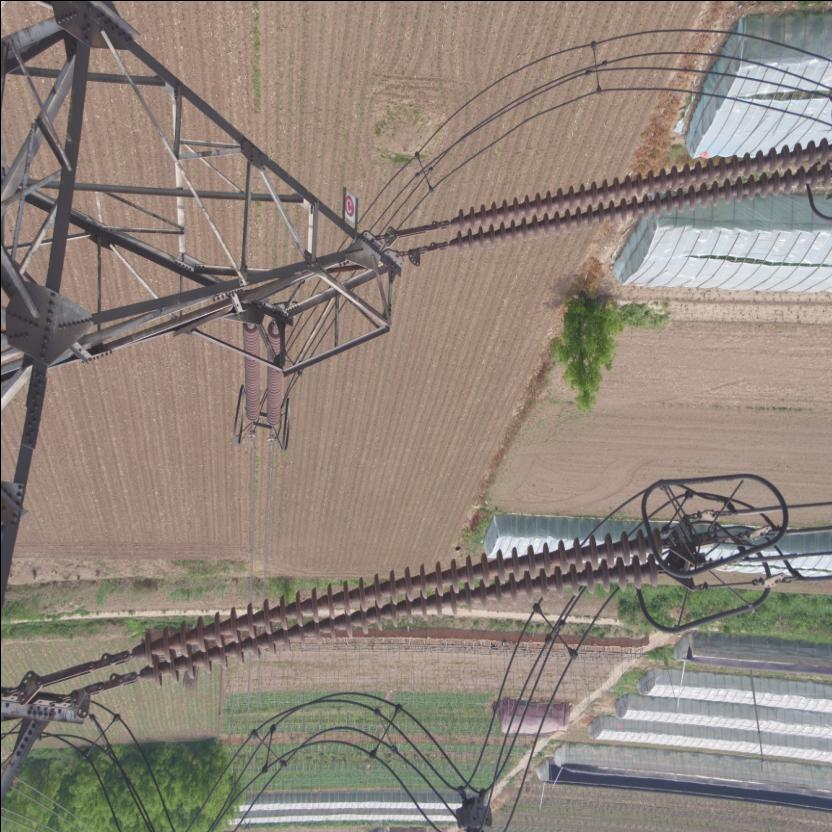insulator: (96, 522, 678, 694), (428, 136, 832, 260)
